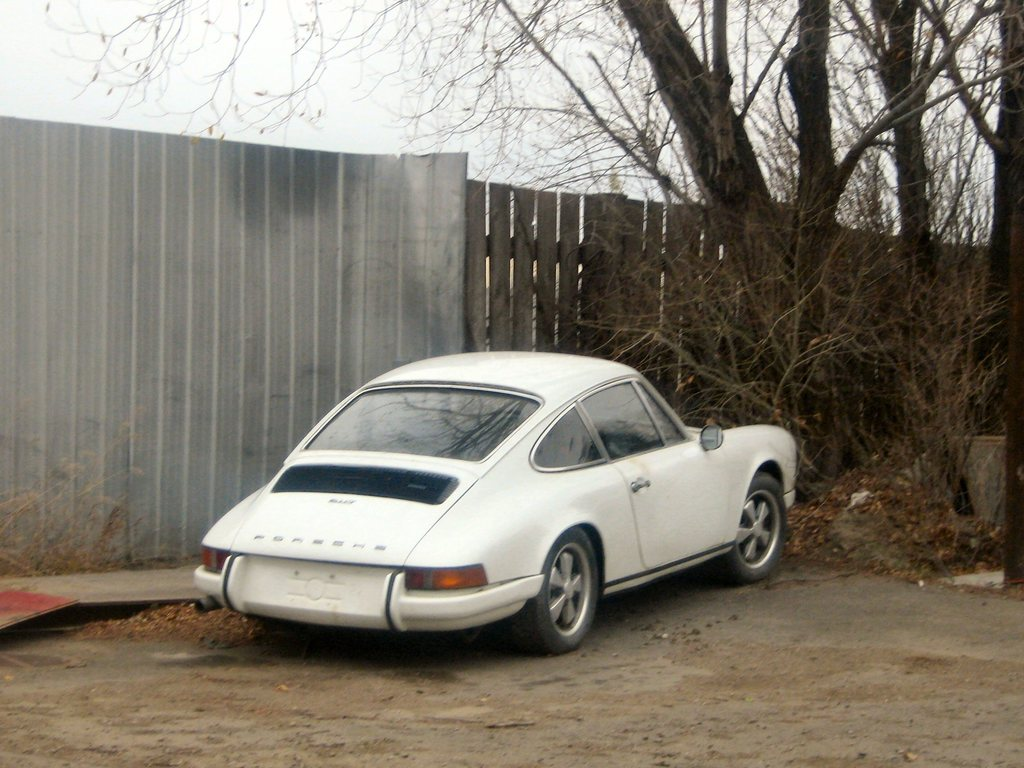mobil: (193, 342, 803, 649)
